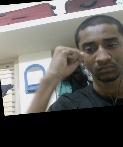hand: (48, 45, 85, 83)
